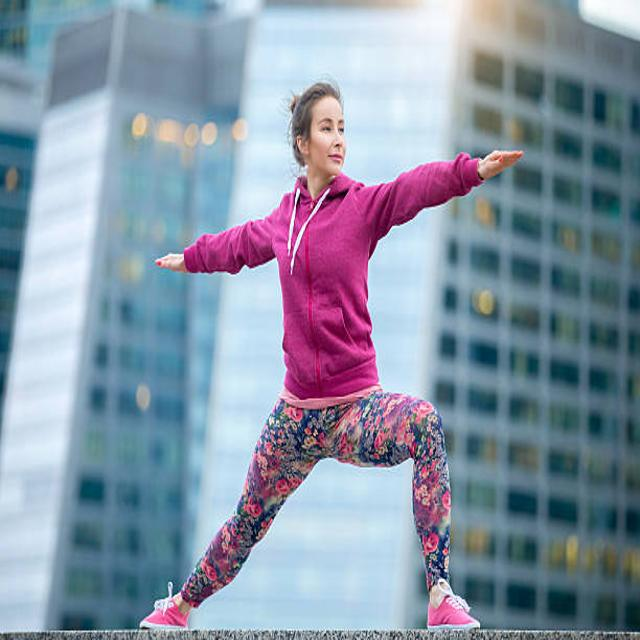Warrior_II: (131, 77, 542, 640)
